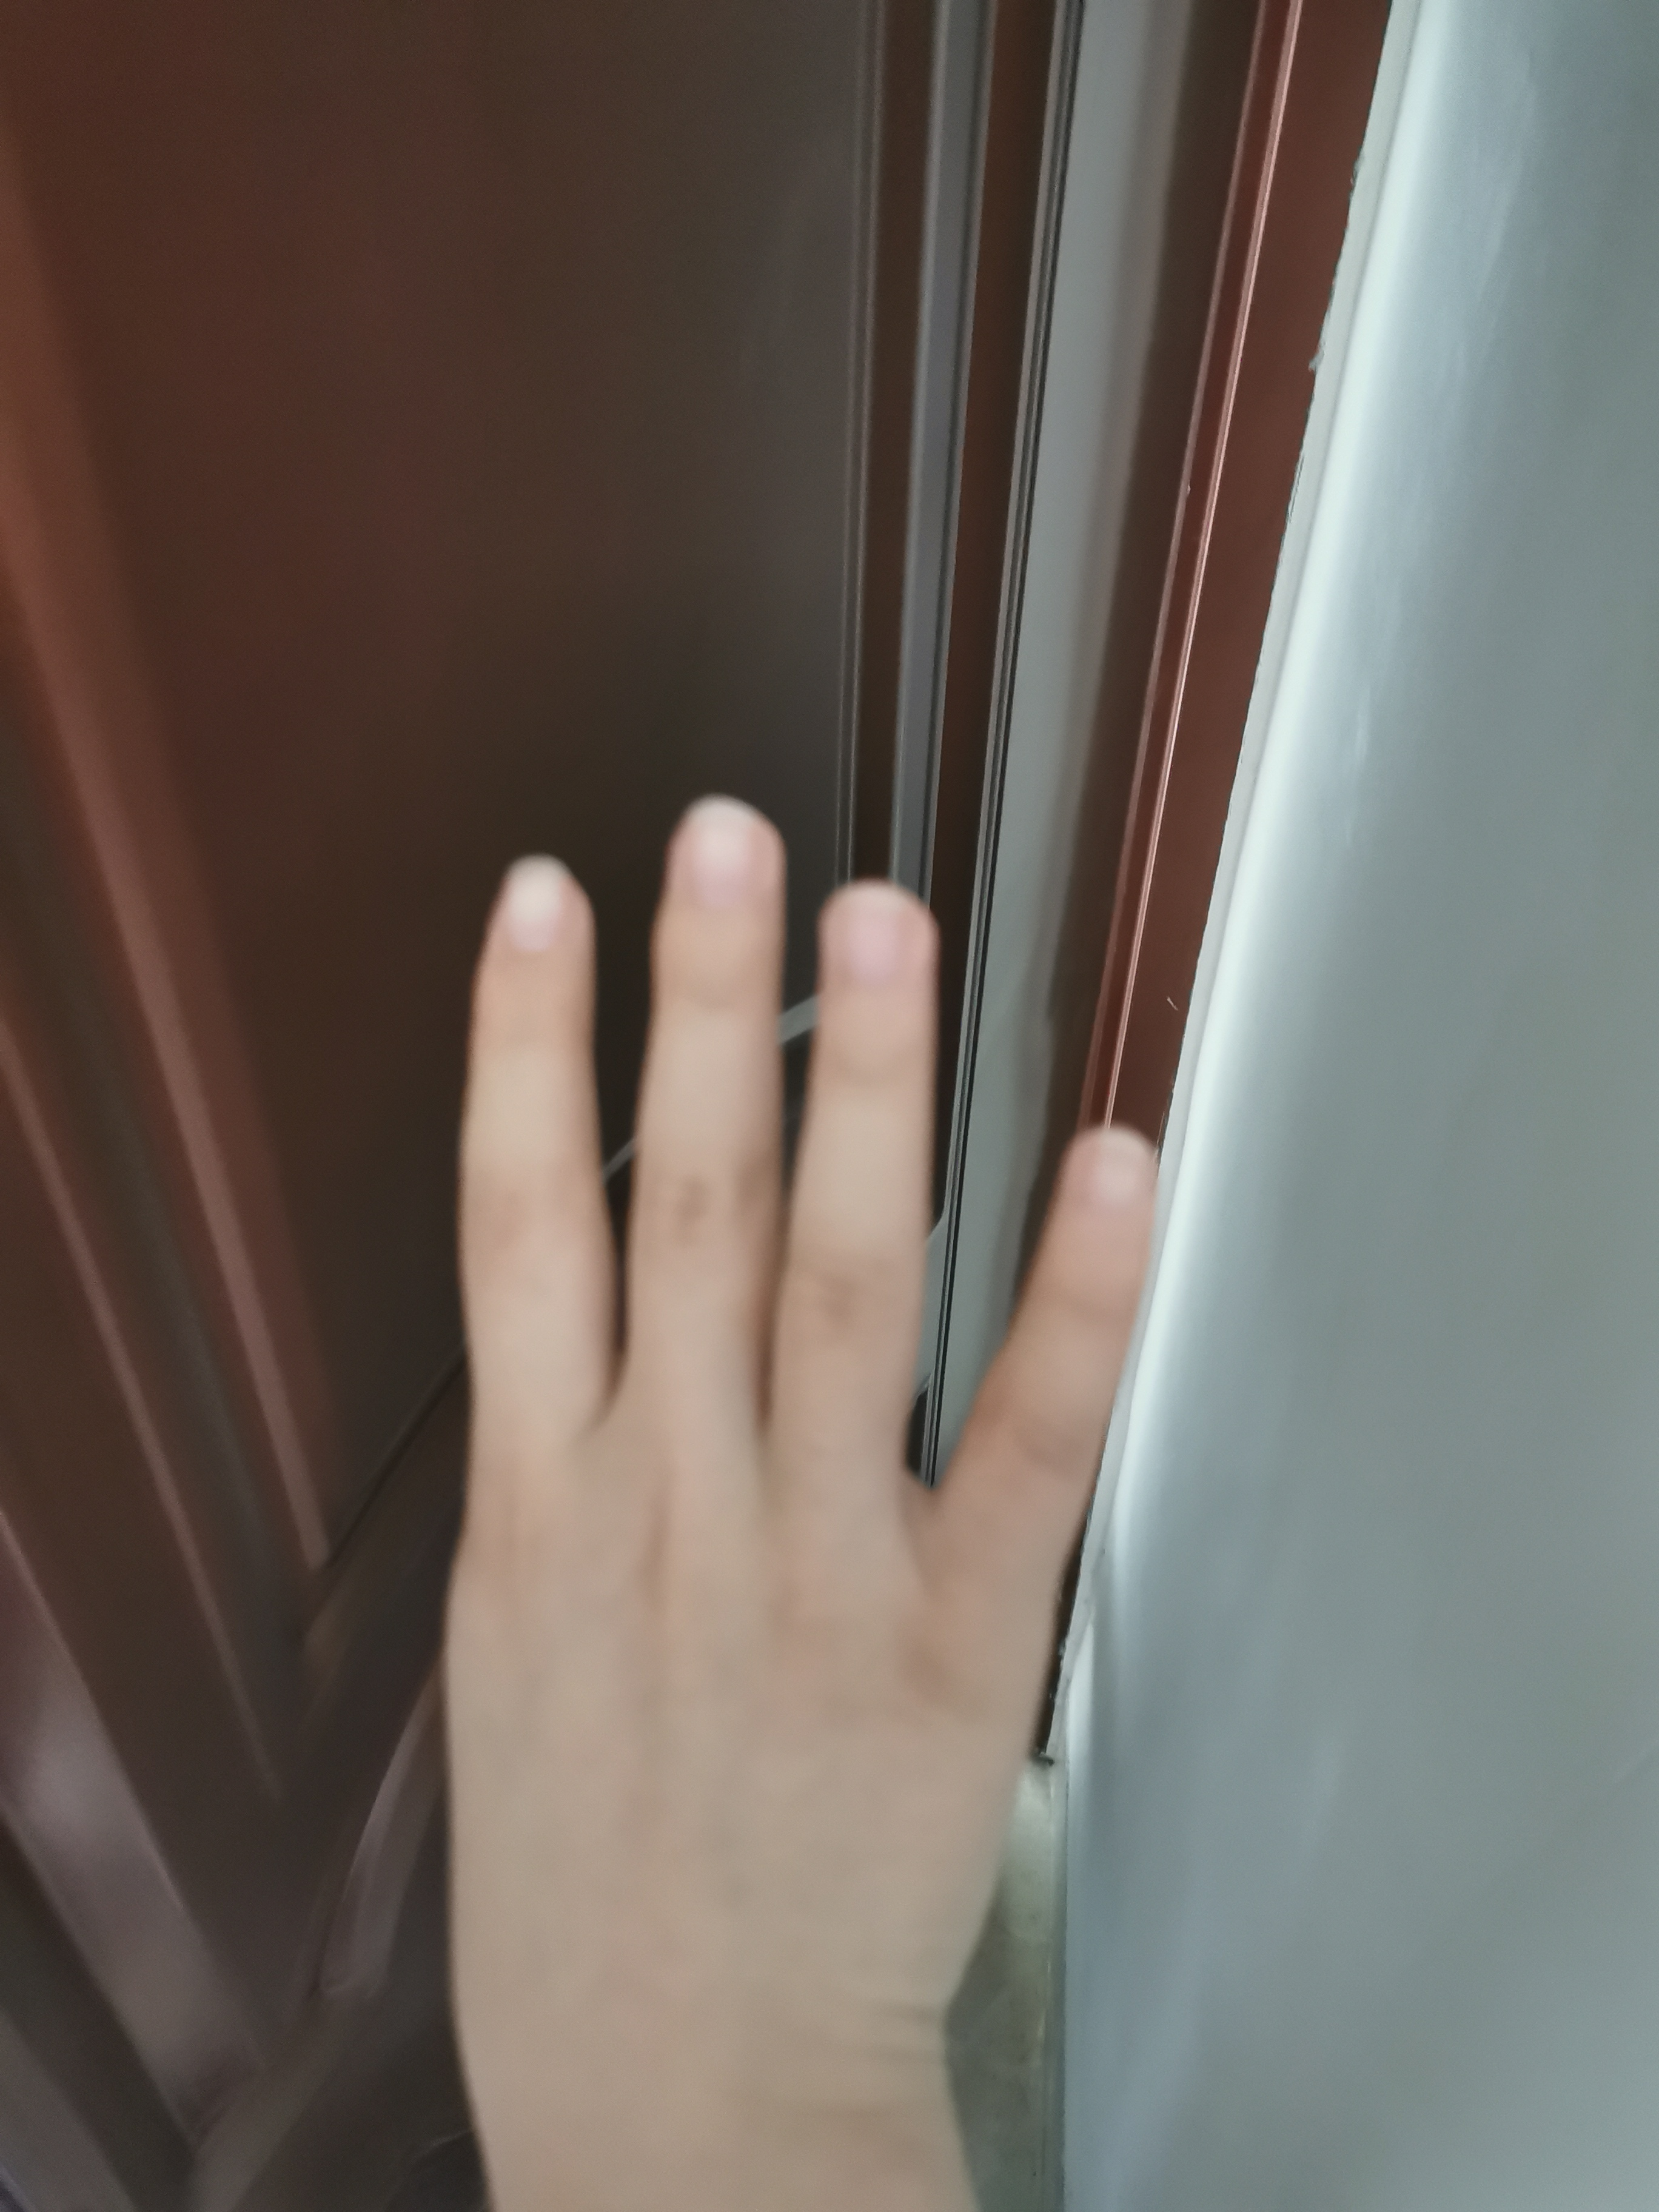right: (392, 784, 1171, 2064)
